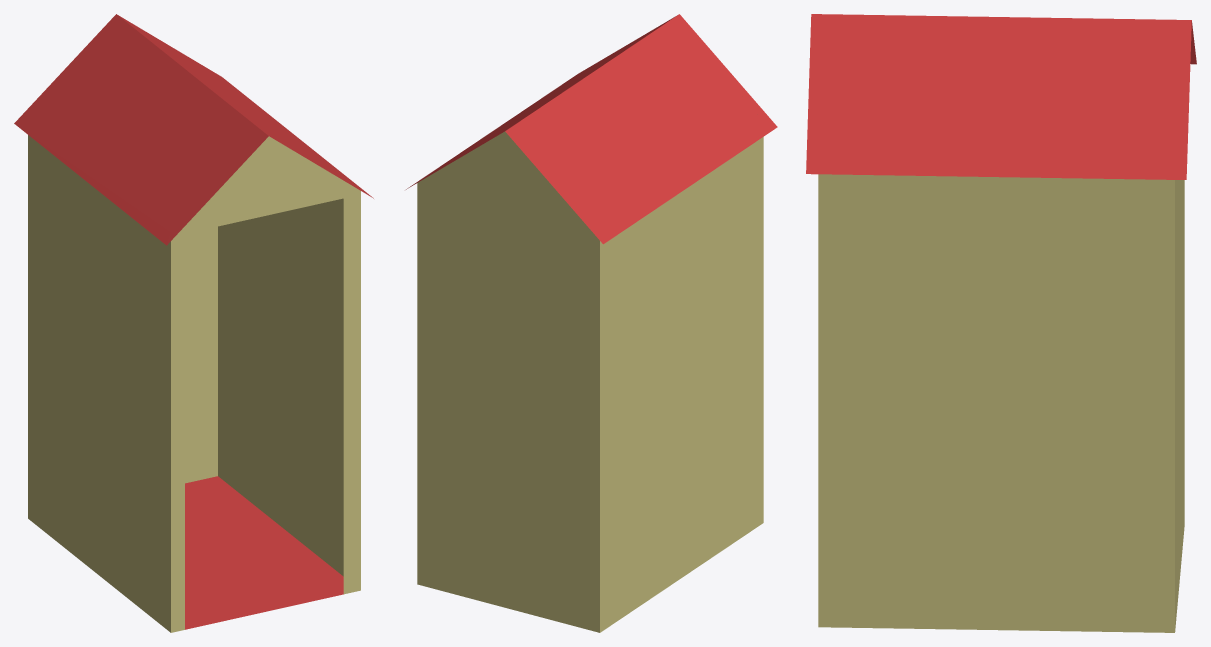
3 renders of one model, left to right at view 1: azimuth 30°, elevation 25°; view 2: azimuth 150°, elevation 25°; view 3: azimuth 270°, elevation 25°, orthographic. The views are drawn at different scales.
Bounding box in the file's own units: 6.01 × 8.14 × 12.86.
